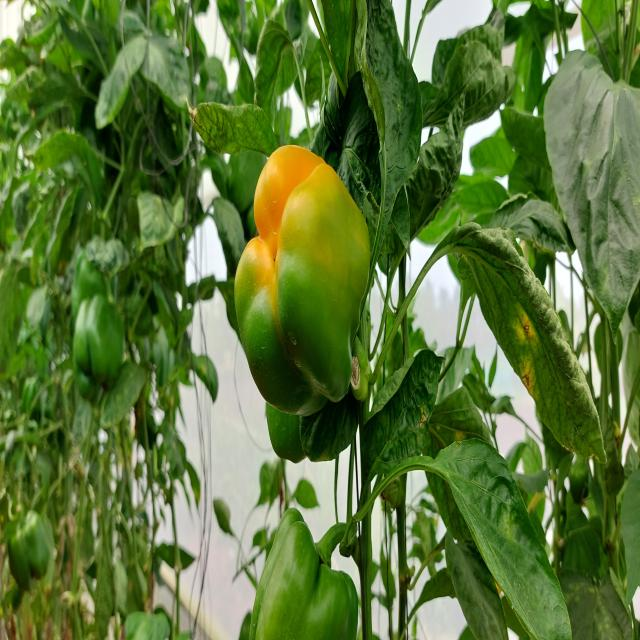GreenishYellow--Can-be-Harvested: (222, 135, 384, 432), (227, 460, 365, 640)
